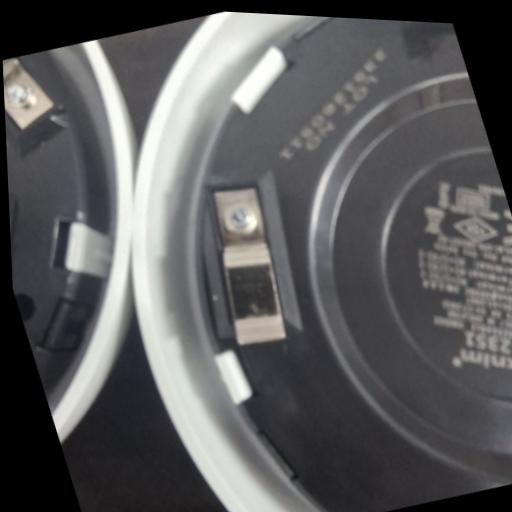yaysiz: (188, 174, 304, 356)
